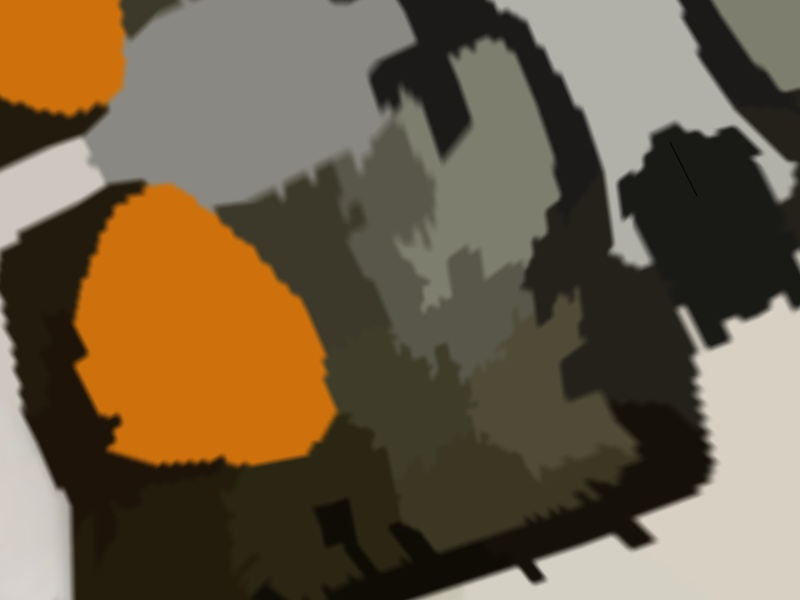dish11: (0, 140, 366, 555)
